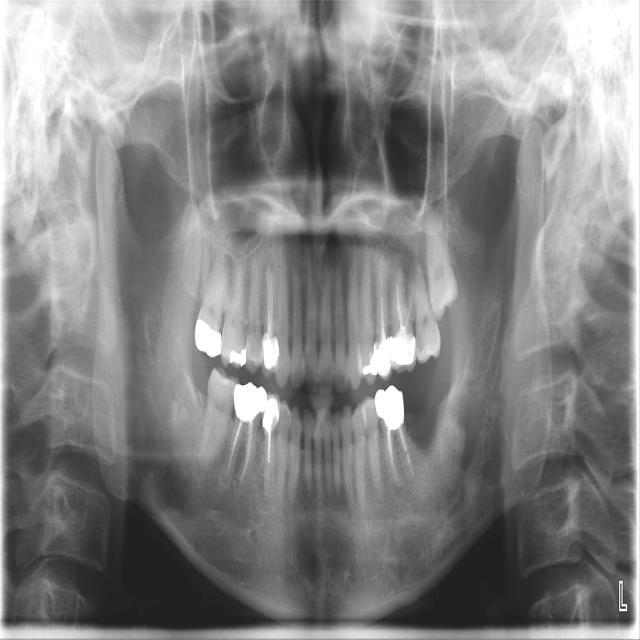Crown: (233, 382, 267, 423), (194, 311, 222, 358), (389, 334, 416, 370), (260, 334, 280, 378), (261, 393, 280, 433), (373, 340, 392, 380)
Filling: (374, 386, 406, 428), (224, 348, 249, 368), (361, 356, 376, 380)
Missing teeth: (402, 382, 438, 448)
Root Canal Treatment: (225, 419, 243, 477), (238, 421, 254, 481), (398, 428, 412, 476), (388, 430, 396, 484), (406, 284, 415, 328), (395, 271, 401, 325), (267, 263, 272, 327), (382, 268, 385, 338)
impacted tooth: (422, 202, 457, 315), (180, 204, 204, 296)
